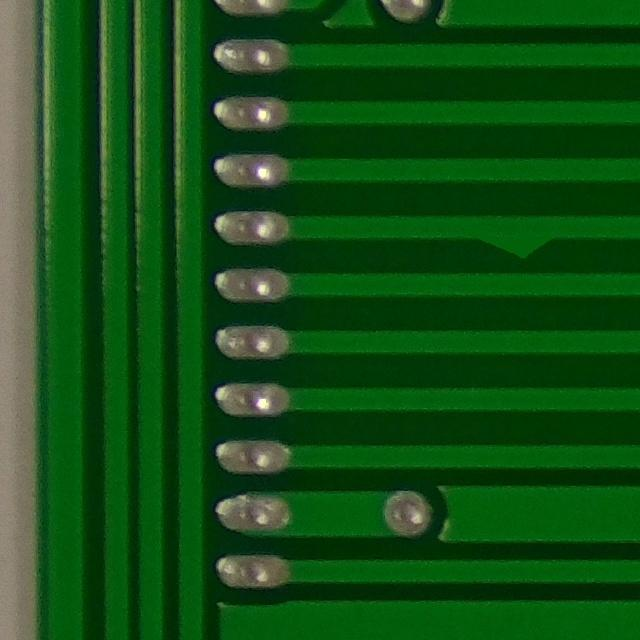spur: (453, 200, 574, 275)
